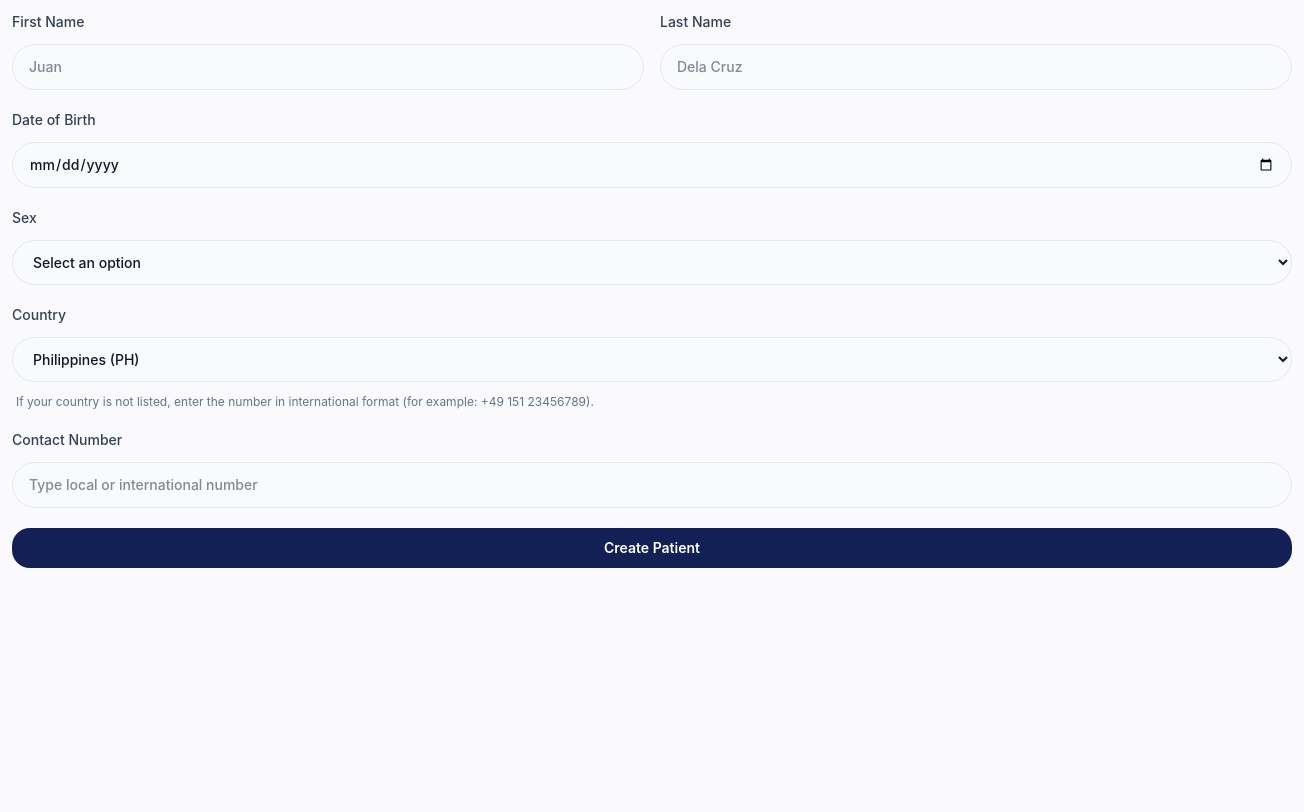
PatientForm validation feedback › renders field errors nested under "errors" returned by the register endpoint
Type "Regression" into the field with id "first_name". click: (328, 67)
box: [12,44,644,90]
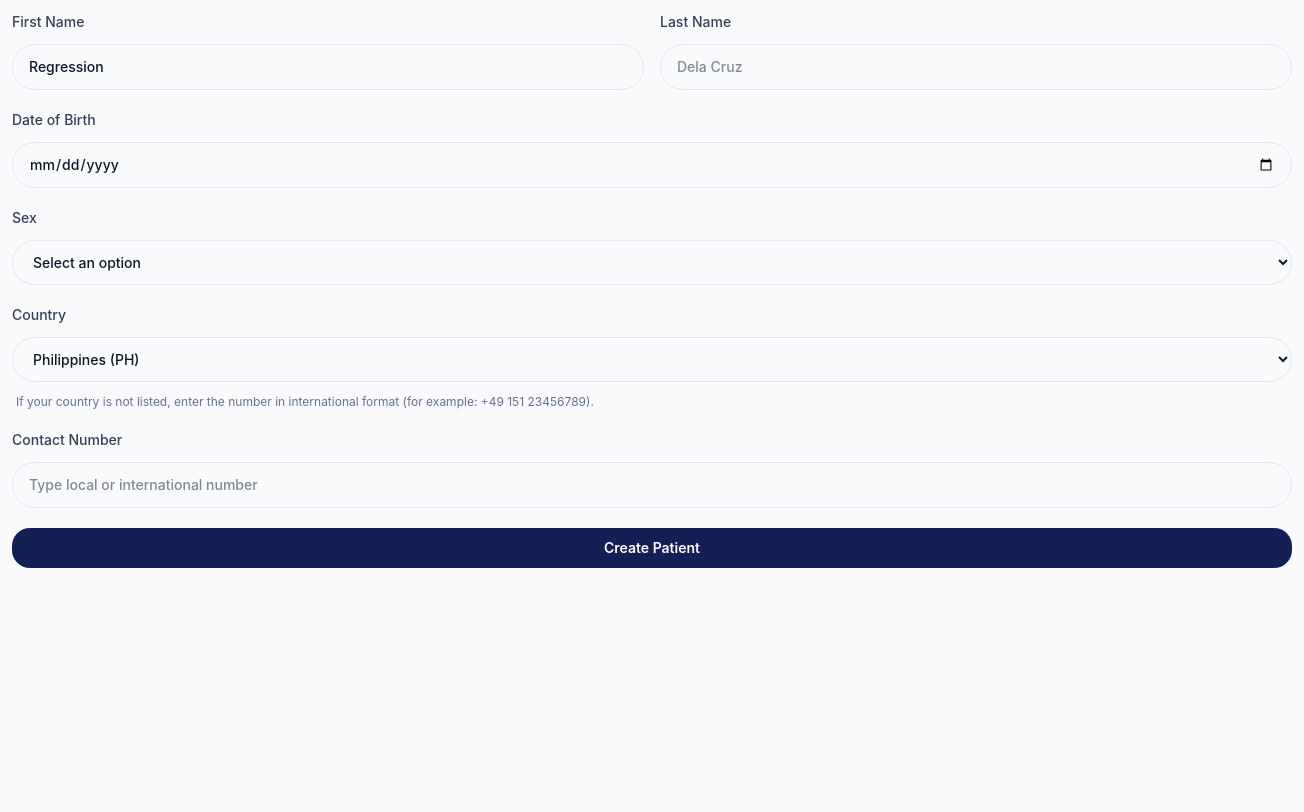
Type "Tester" into the field with id "last_name". click: (976, 67)
box: [660,44,1292,90]
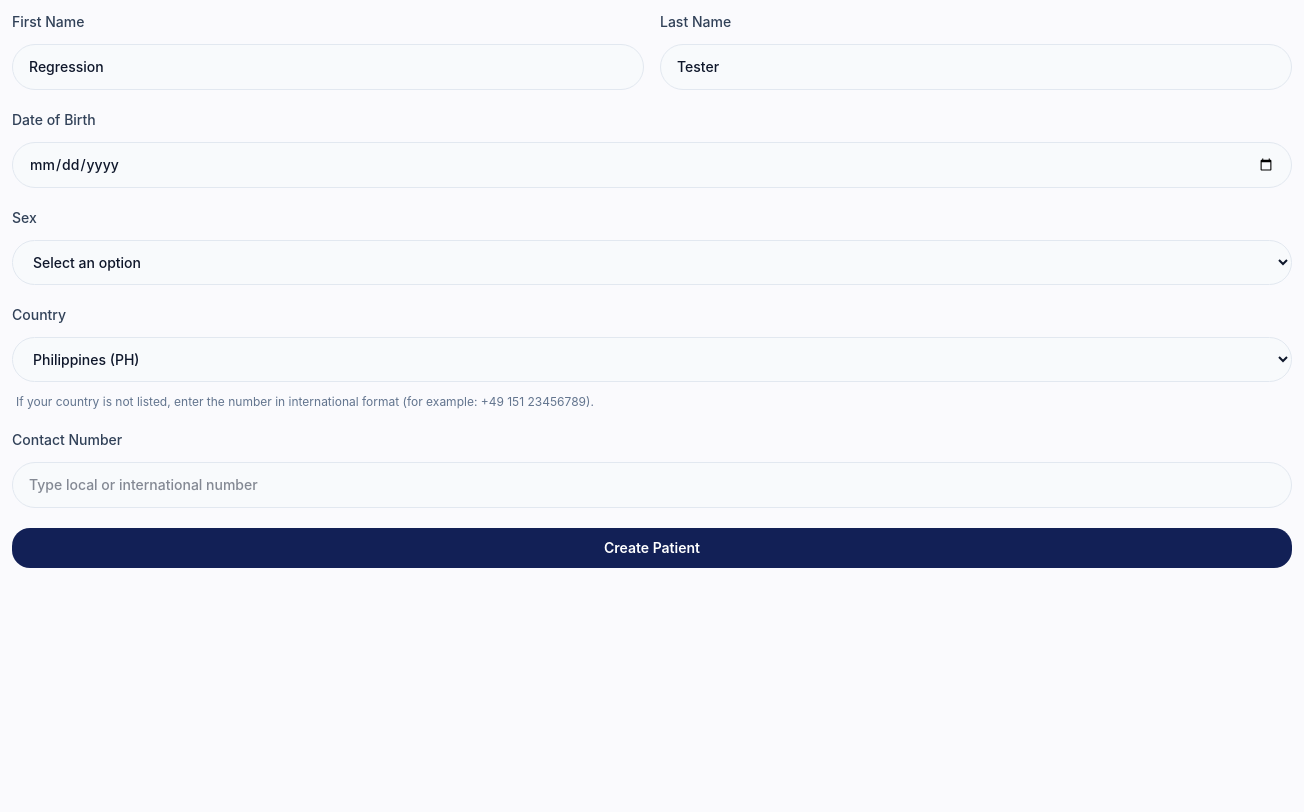
Type "1990-05-05" into the date field with id "date_of_birth". click: (652, 165)
box: [12,142,1292,188]
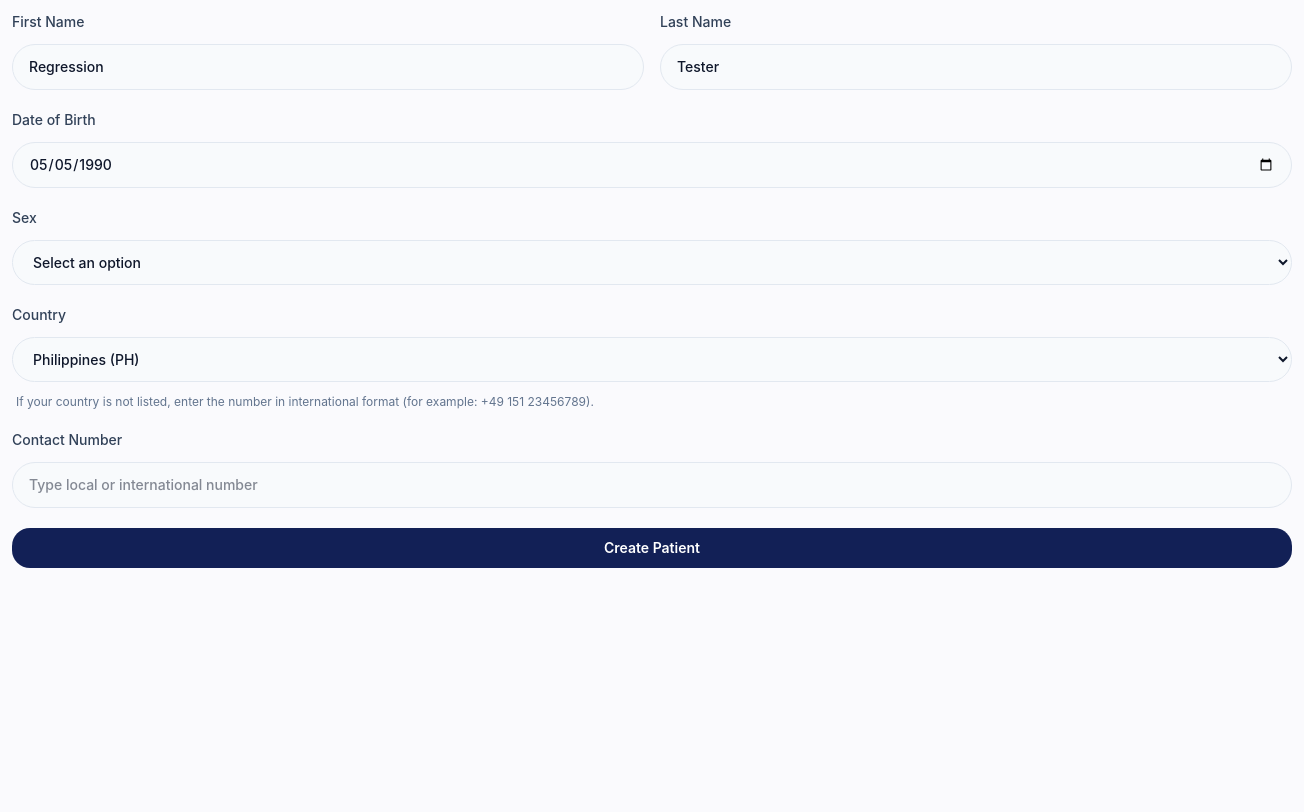
Select "Male" in the dropdown with id "sex". click: (652, 262)
box: [12,240,1292,285]
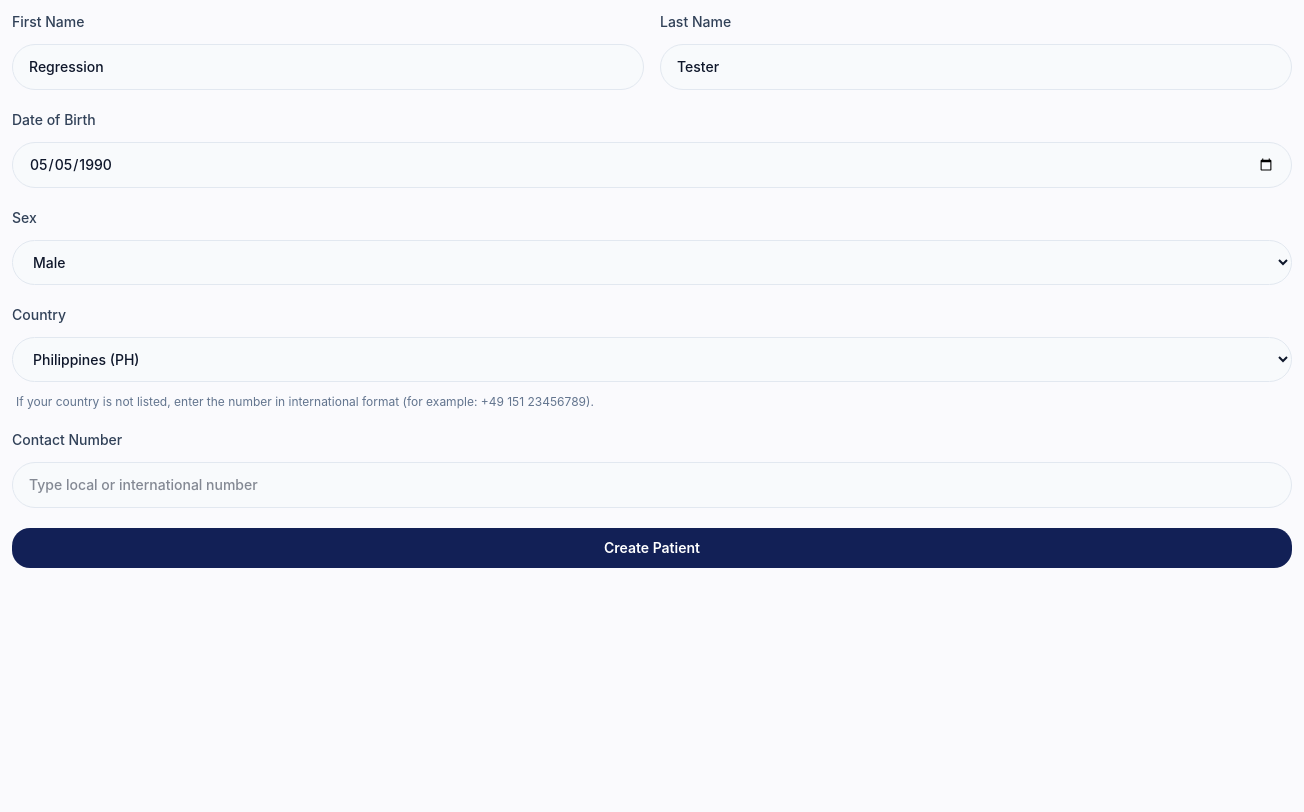
Type "09171234567" into the field with id "contact_number". click: (652, 485)
box: [12,462,1292,508]
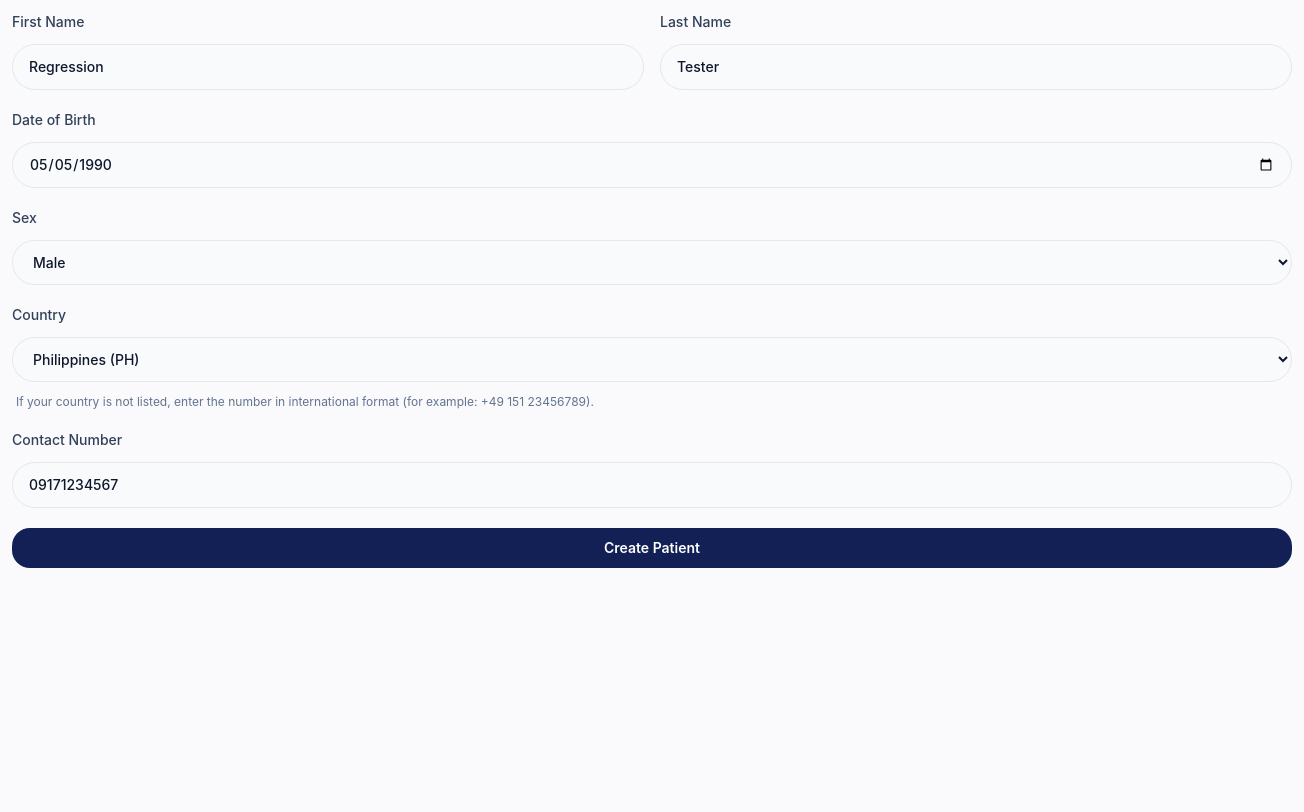
Submit the form
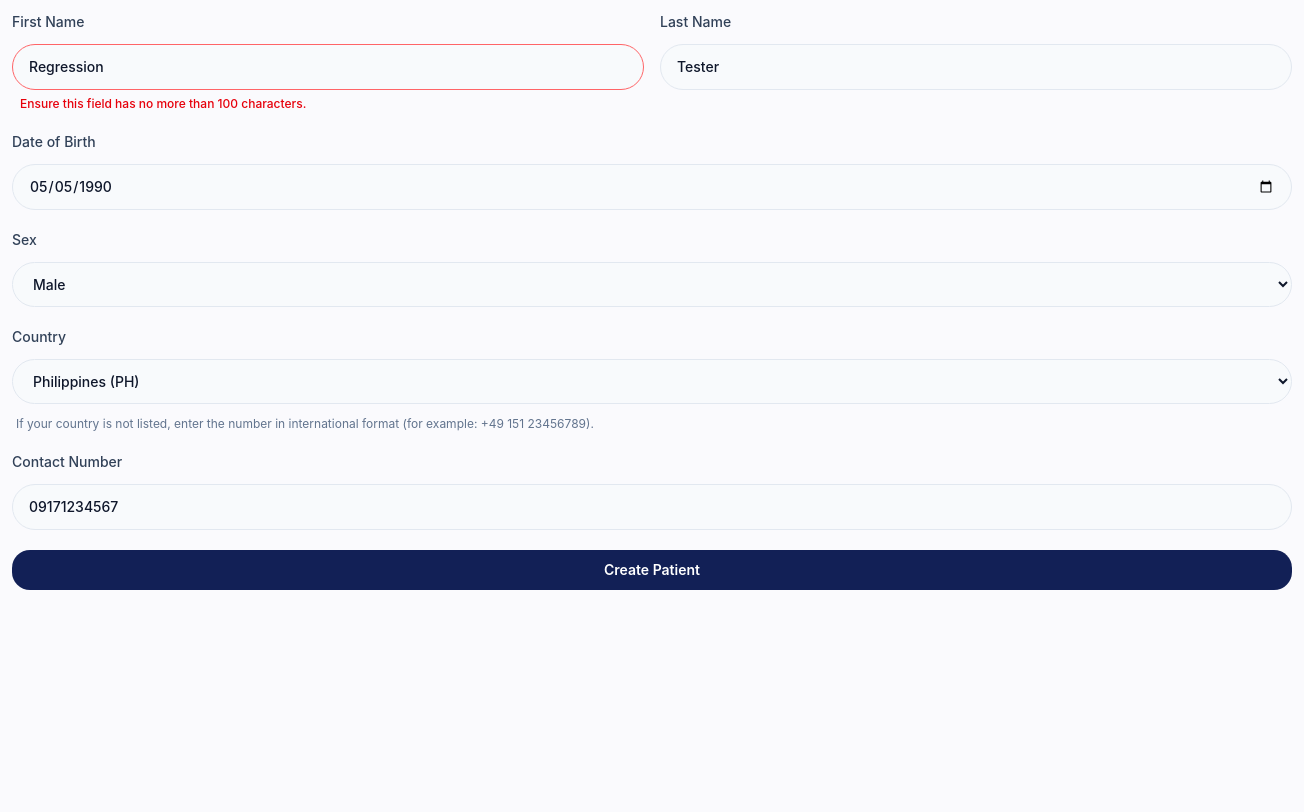
Check: the text "Ensure this field has no more than 100 characters." is shown, box [20,96,306,111]
